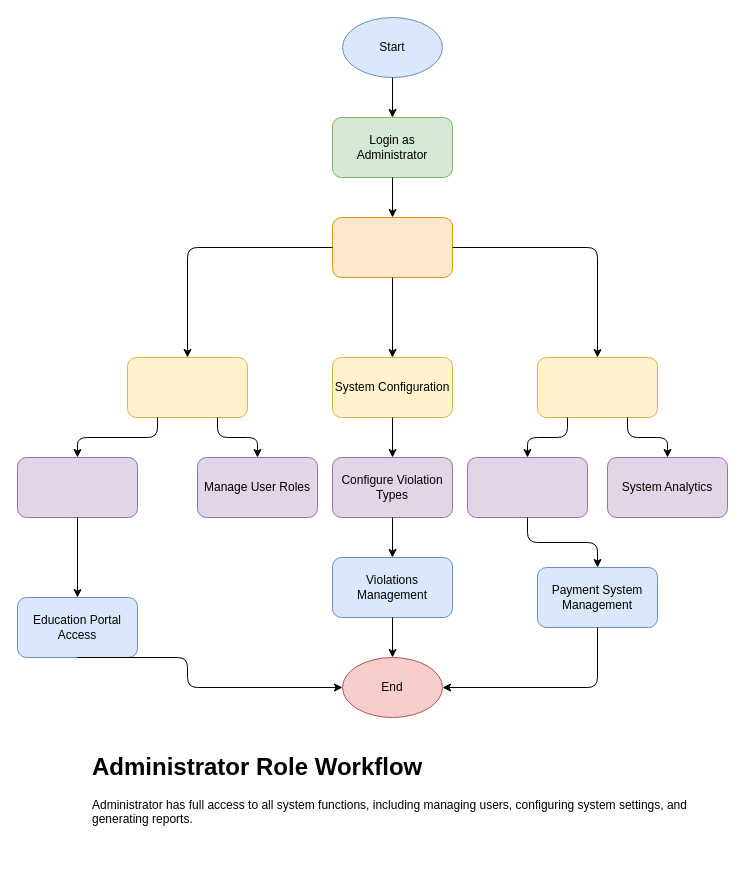
Some shapes in this 745 by 885 pixel diagram are drawn without their labels. Each missing label, with the centre of its shape:
"Admin Dashboard" goes at (x=392, y=247).
"Create/Edit Users" goes at (x=77, y=487).
"Generate Reports" goes at (x=527, y=487).
"Reports & Analytics" goes at (x=597, y=387).
"User Management" goes at (x=187, y=387).
